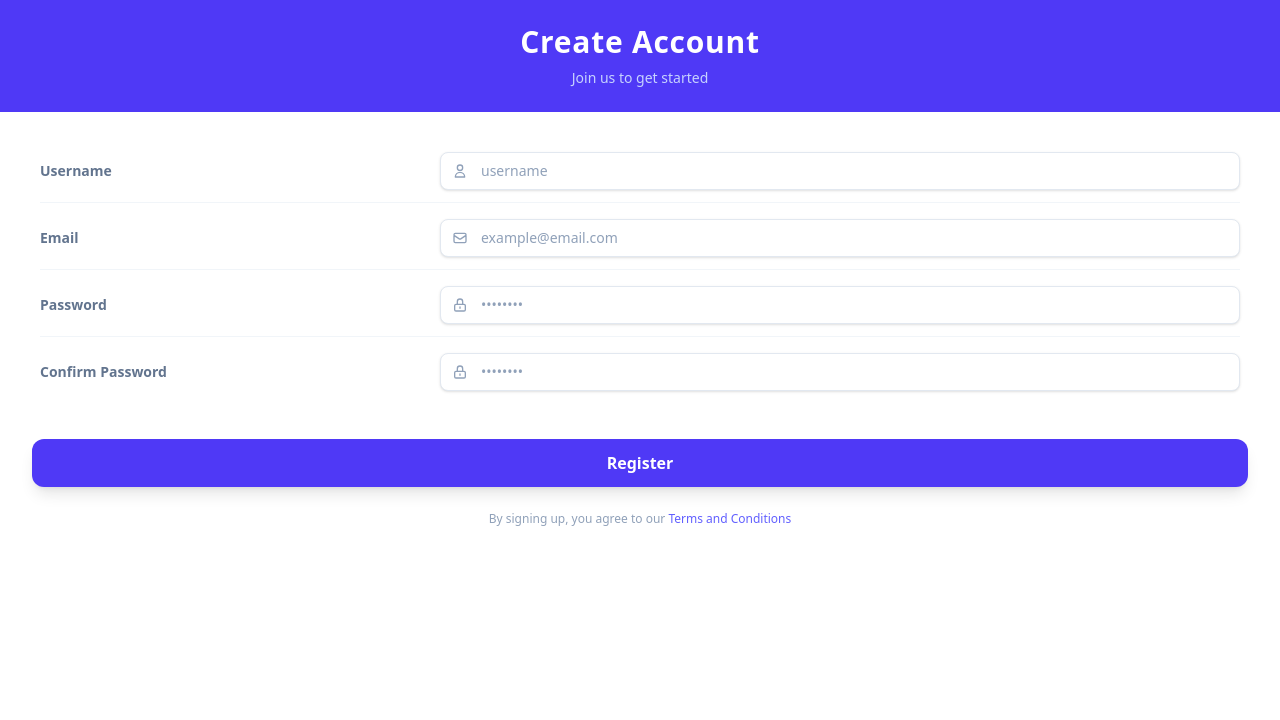
Test case: RegisterPage Component › should handle server errors
Type "juan" into the field labelled "Username". click: [840, 171]
box: [440, 152, 1240, 190]
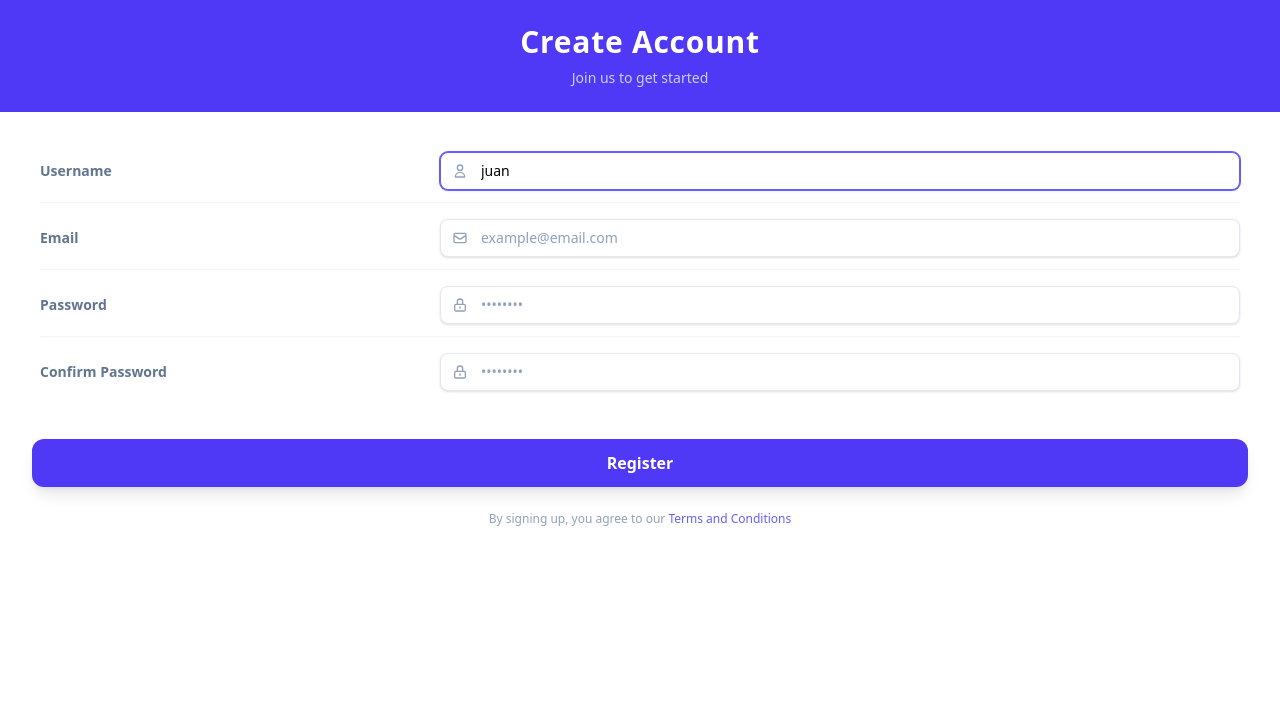
Type "juan@test.com" into the field labelled "Email". click: [840, 238]
box: [440, 219, 1240, 257]
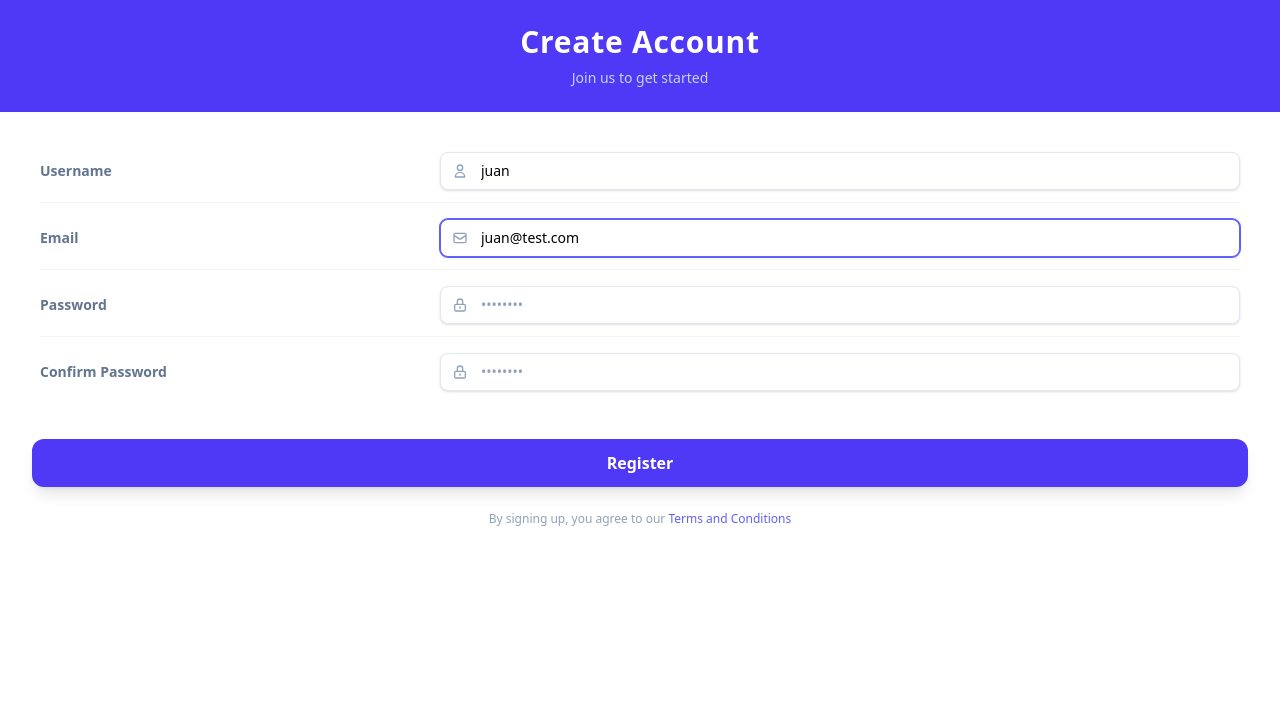
Type "123" into the password field labelled "Password". click: [840, 305]
box: [440, 286, 1240, 324]
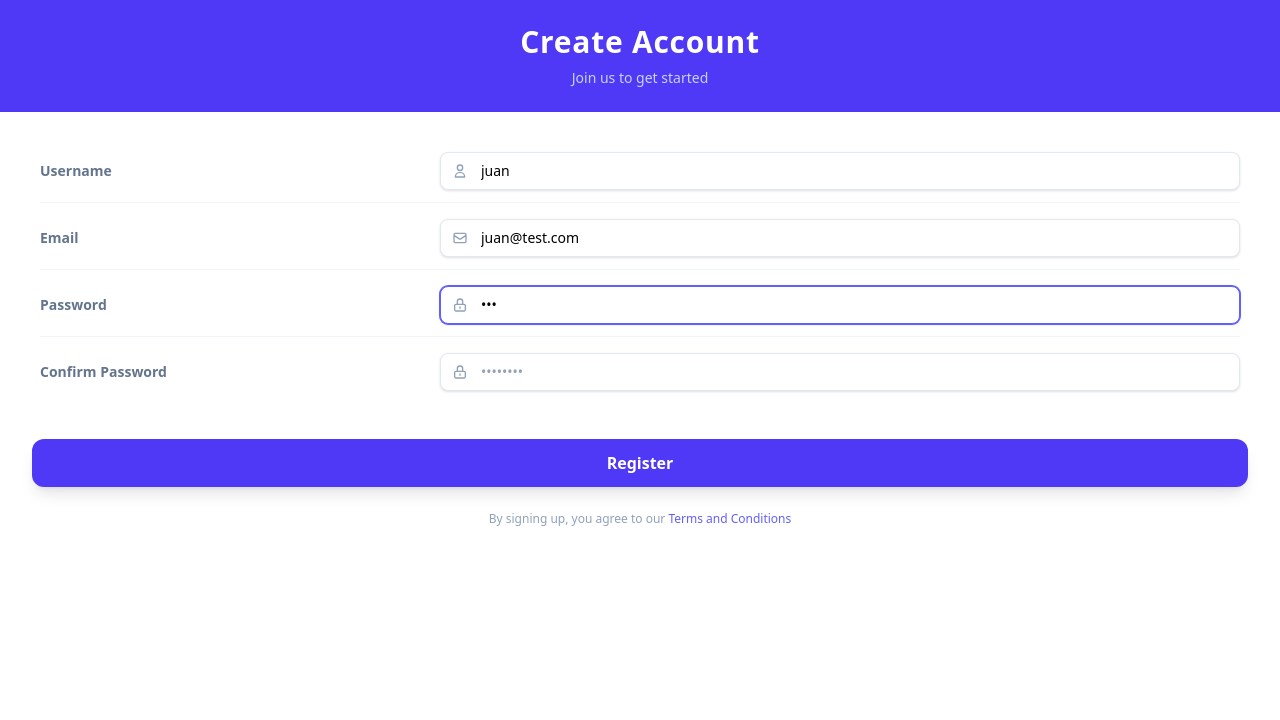
Type "123" into the password field labelled "Confirm Password". click: [840, 372]
box: [440, 353, 1240, 391]
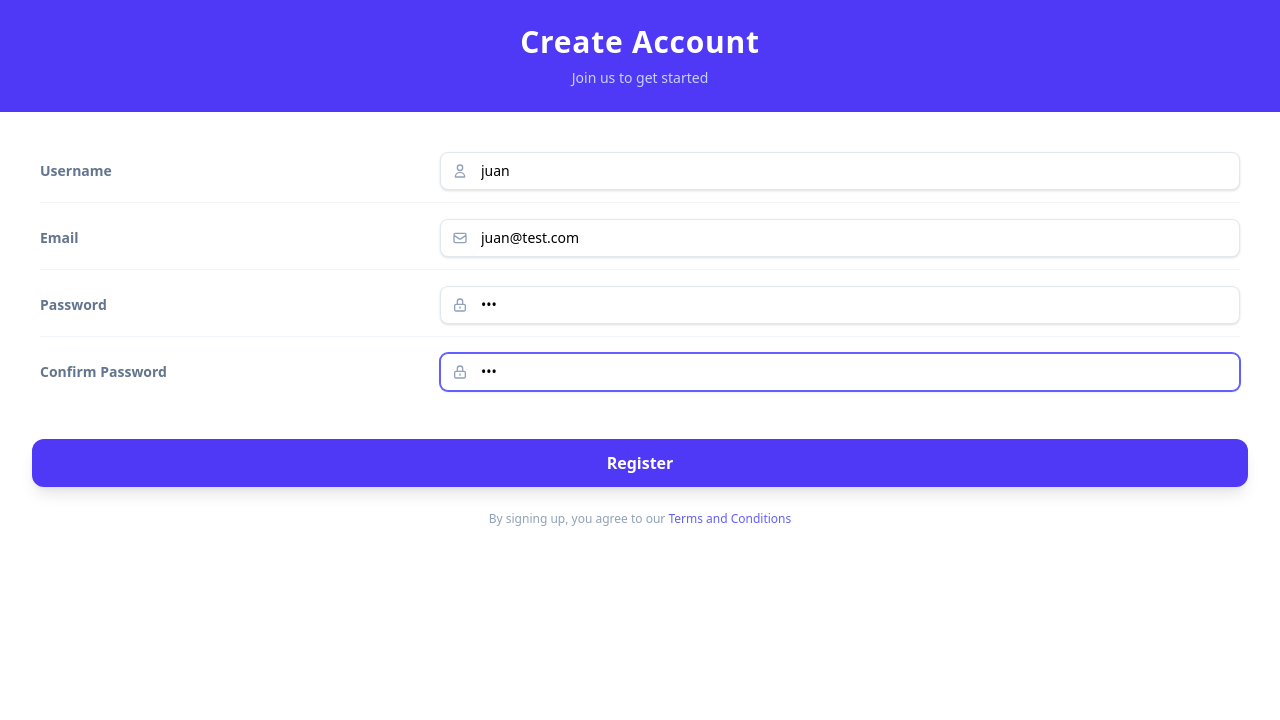
Click the button "Register". click: [640, 463]
box: [32, 439, 1248, 487]
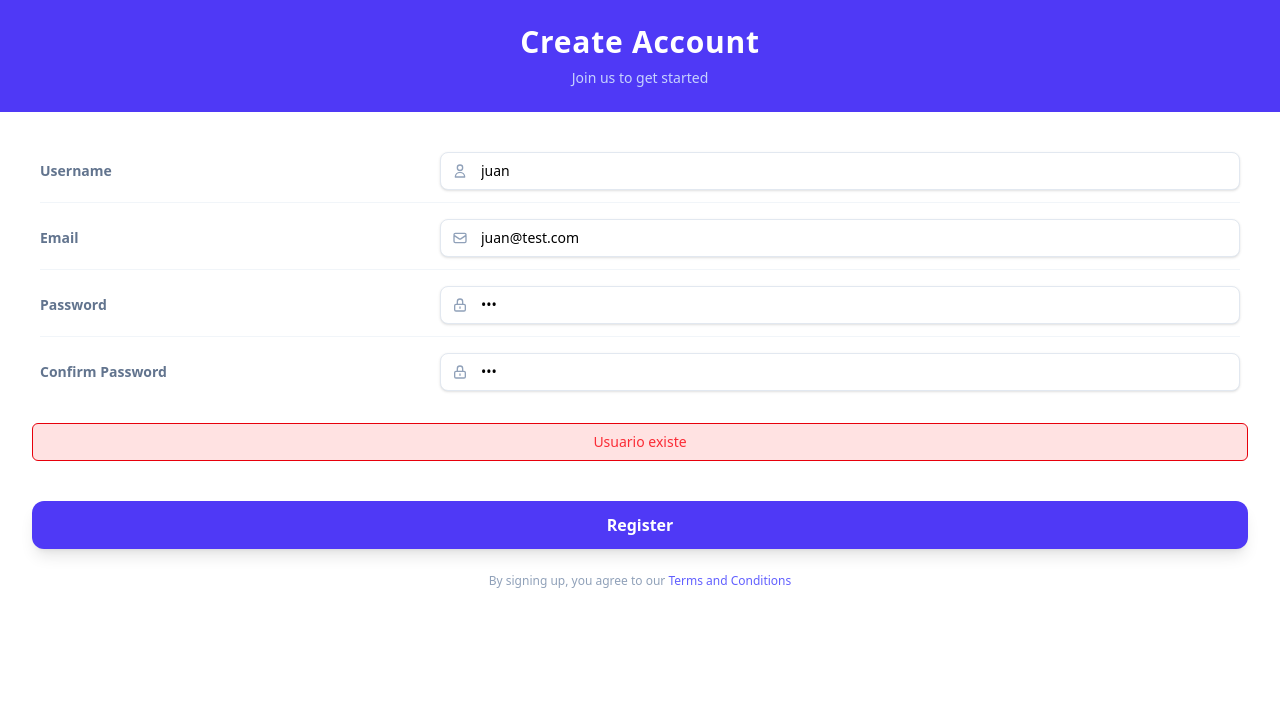
expect the text "Usuario existe" is shown: met, box [32, 423, 1248, 461]
